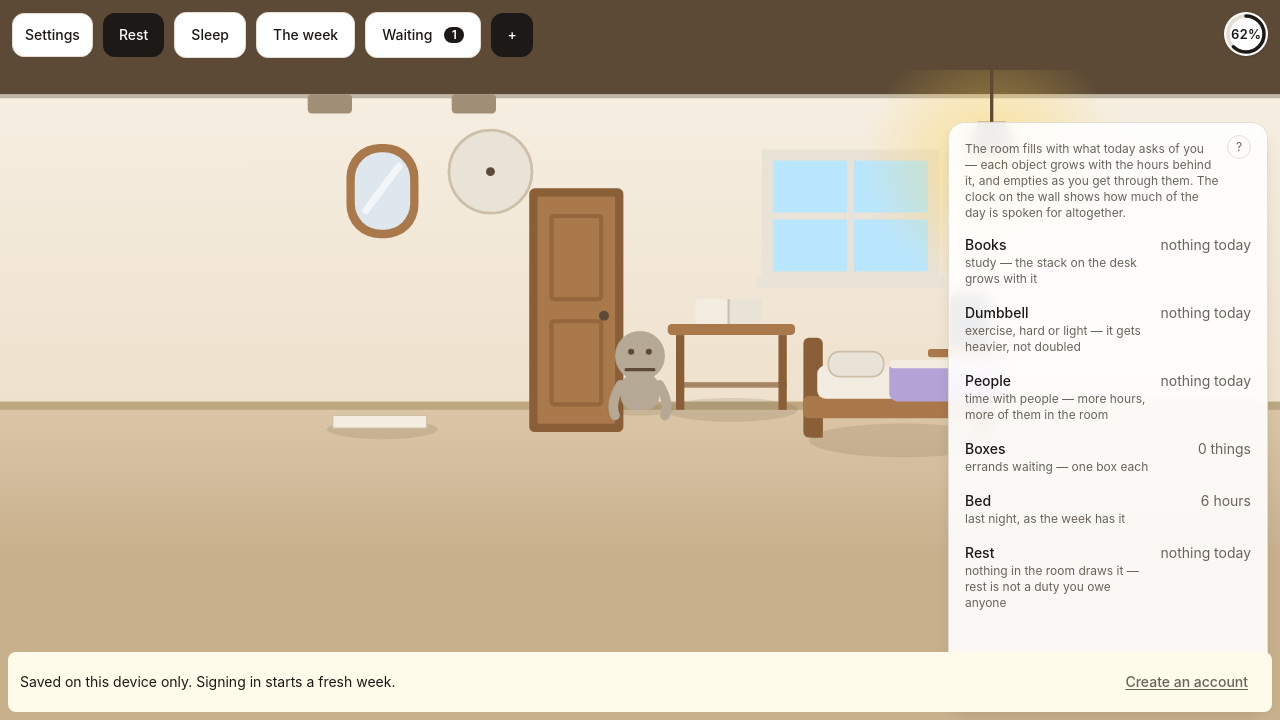
Test: the reserves sheet › prices rest at the level the thinnest reserve is actually on
This screenshot has width=1280, height=720.
Click the button with test id "room-gauge". click: {"x": 1246, "y": 34}
box: [1224,12,1268,56]
(page scrolled)
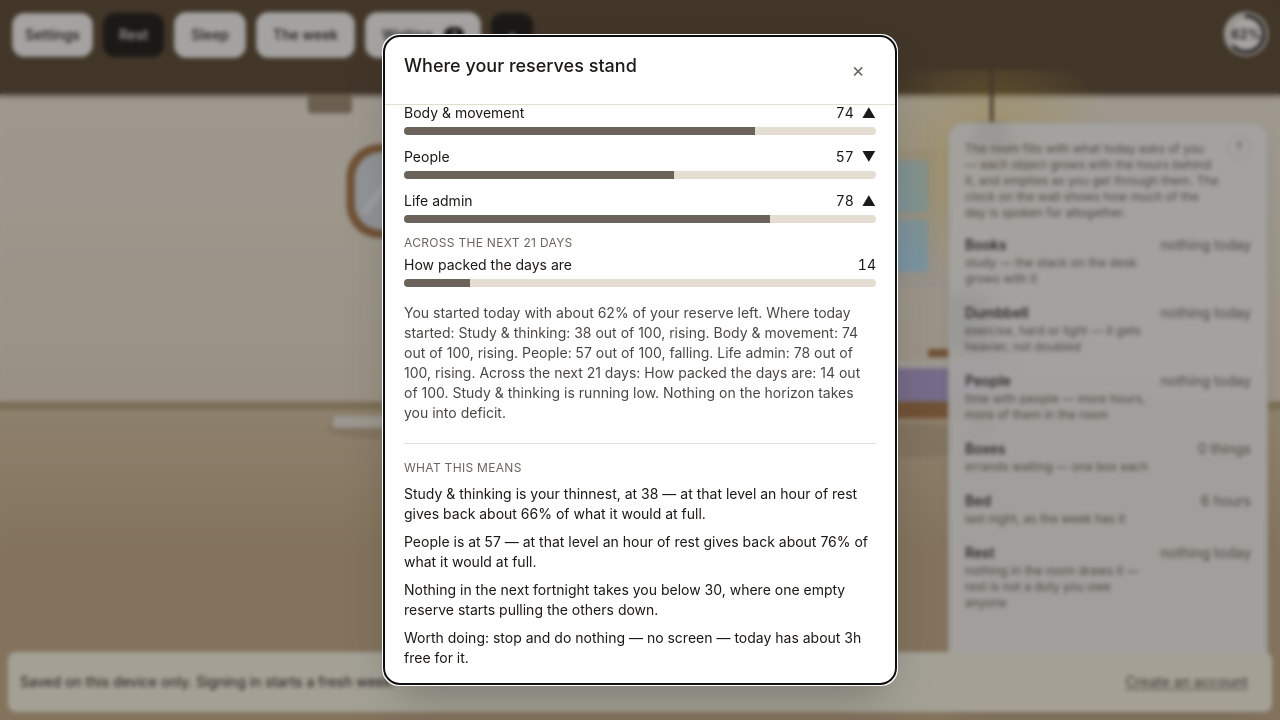
Expected: the element with test id "reserve-insight" shows "rest", [404,485,857,522]
